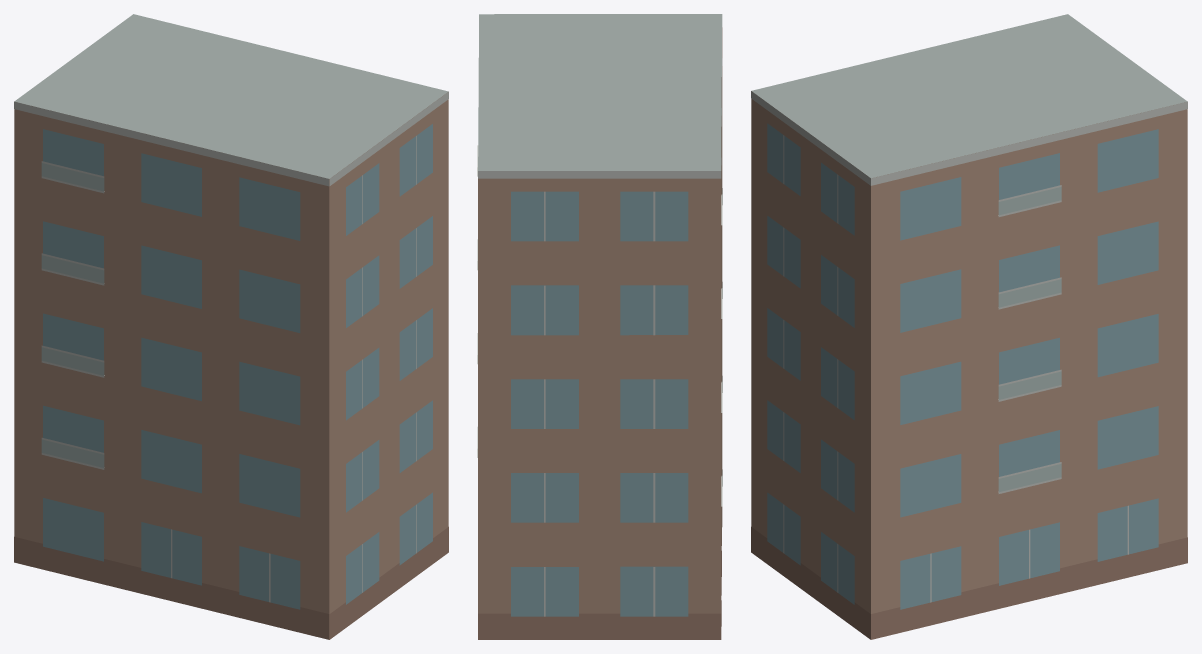
File: survey-upis-32696171.glb
3 renders of one model, left to right at view 1: azimuth 30°, elevation 25°; view 2: azimuth 150°, elevation 25°; view 3: azimuth 270°, elevation 25°, orthographic.
Visible parts, largest first — view 1: survey-upis-32696171.tmp; view 2: survey-upis-32696171.tmp; view 3: survey-upis-32696171.tmp.
Boxes of the visible parts, x1,y1,x2,y2 form: survey-upis-32696171.tmp: [14, 14, 448, 639]; survey-upis-32696171.tmp: [477, 14, 722, 639]; survey-upis-32696171.tmp: [751, 14, 1187, 639].
Bounding box in the file's own units: 11.39 × 14.9 × 12.78.
